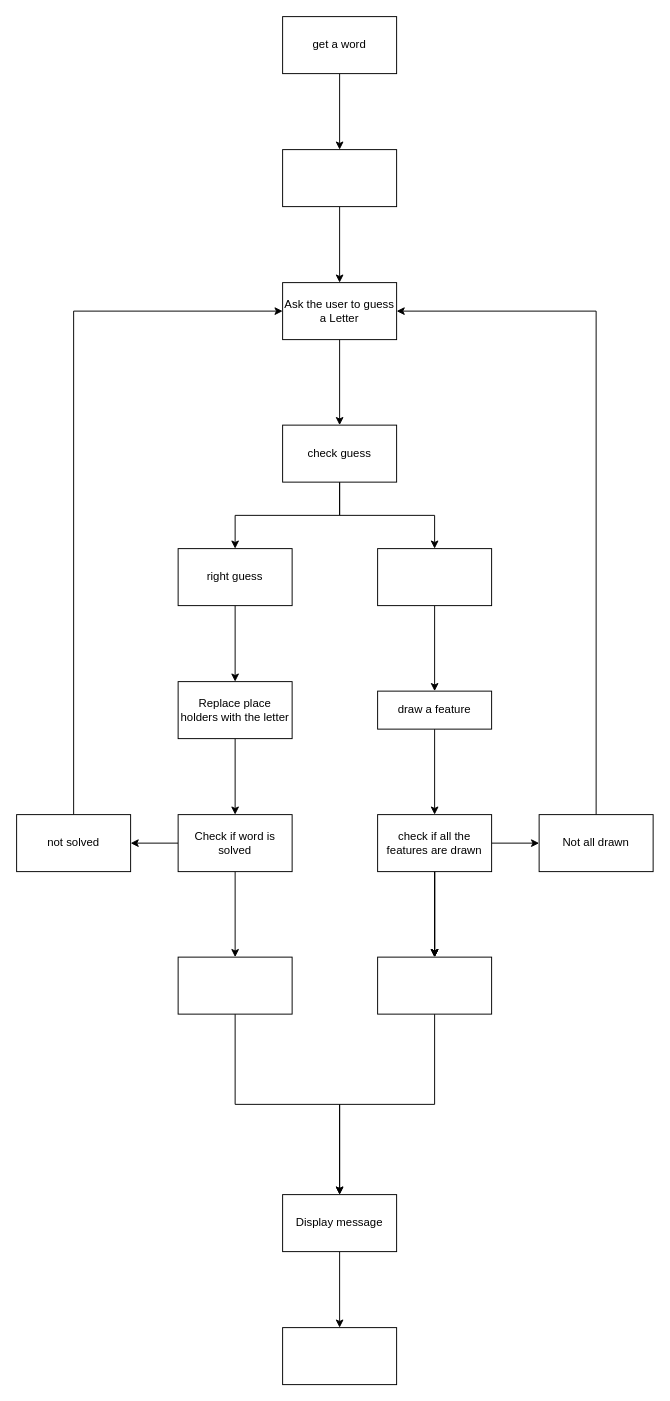
This 670x1401 diagram has some shape labels left out. The box of each missing label's shape, as (x1, y1, x2, y2) in pixels:
All drawn: (377, 956, 492, 1014)
End game: (282, 1327, 397, 1385)
Hide the word: (282, 149, 397, 207)
solved finish game: (177, 956, 292, 1014)
Wrong guess: (377, 548, 492, 606)
